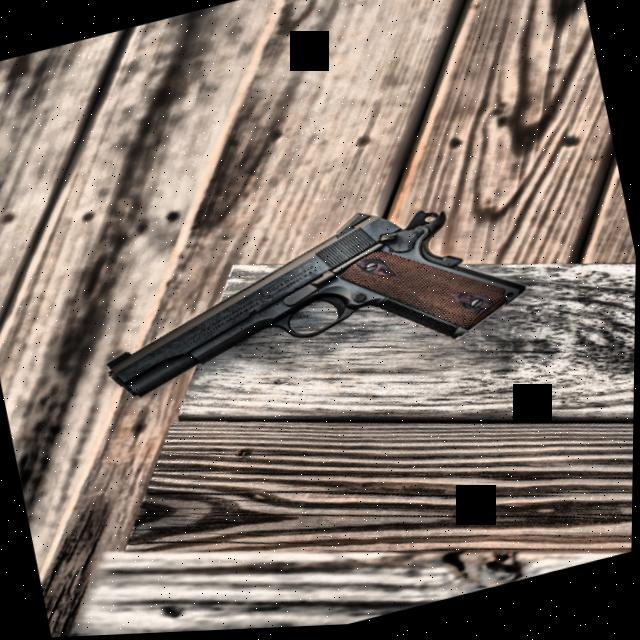Colt m1911: (77, 160, 546, 452)
